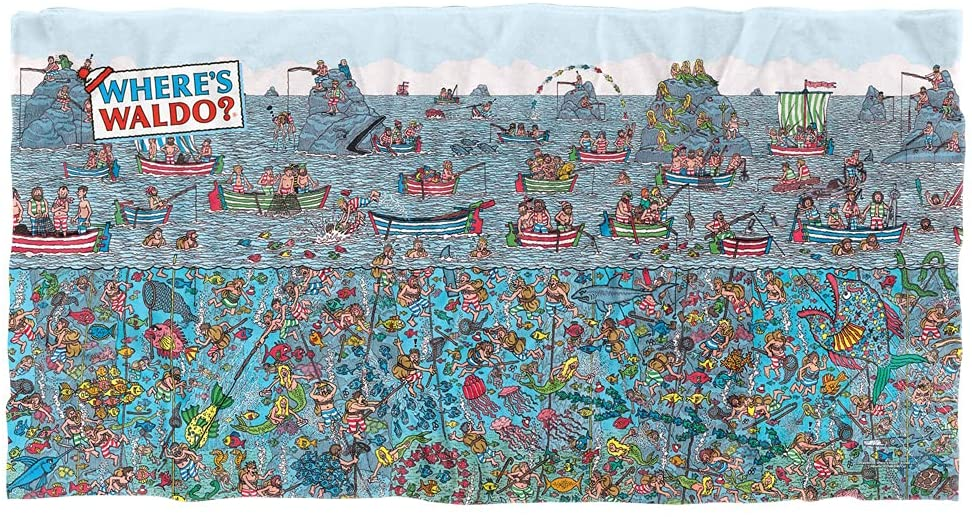waldo: (675, 138, 691, 171)
